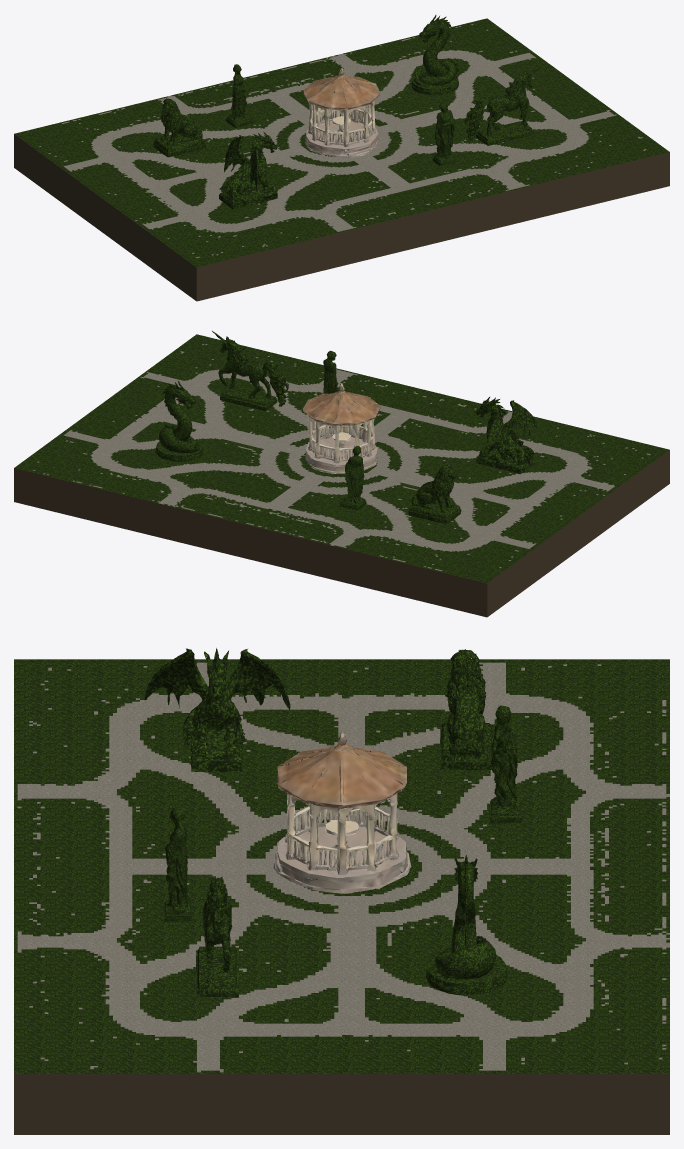
File: garden-shared-textures-v4.glb
3 views of the same model, one above another, from view 1: azimuth 30°, elevation 25°; view 2: azimuth 150°, elevation 25°; view 3: azimuth 270°, elevation 25° (orthographic). The views are drawn at different scales.
Visible parts, largest first — view 1: geometry_0, Compact soil foundation, gazebo - original generated mesh, dragon - original generated mesh, unicorn - original generated mesh, serpent - original generated mesh, dog - original generated mesh, woman-rose - original generated mesh, woman-violet - original generated mesh; view 2: geometry_0, Compact soil foundation, gazebo - original generated mesh, dragon - original generated mesh, unicorn - original generated mesh, serpent - original generated mesh, dog - original generated mesh, woman-violet - original generated mesh, woman-rose - original generated mesh; view 3: geometry_0, Compact soil foundation, gazebo - original generated mesh, dragon - original generated mesh, serpent - original generated mesh, dog - original generated mesh, unicorn - original generated mesh, woman-violet - original generated mesh, woman-rose - original generated mesh.
Part boxes in pixels (x1,y1,x2,y2): geometry_0: (14,18,669,267); Compact soil foundation: (14,134,669,301); gazebo - original generated mesh: (303,68,380,157); dragon - original generated mesh: (219,131,277,209); unicorn - original generated mesh: (464,65,541,145); serpent - original generated mesh: (411,15,459,95); dog - original generated mesh: (153,98,205,157); woman-rose - original generated mesh: (432,102,455,166); woman-violet - original generated mesh: (226,64,252,127); geometry_0: (14,334,669,583); Compact soil foundation: (14,450,669,617); gazebo - original generated mesh: (303,384,380,474); dragon - original generated mesh: (475,397,536,474); unicorn - original generated mesh: (212,331,288,410); serpent - original generated mesh: (155,381,202,461); dog - original generated mesh: (408,464,461,524); woman-violet - original generated mesh: (339,446,366,510); woman-rose - original generated mesh: (323,350,338,393); geometry_0: (14,659,669,1073); Compact soil foundation: (14,1074,669,1134); gazebo - original generated mesh: (273,732,411,893); dragon - original generated mesh: (144,648,290,772); serpent - original generated mesh: (426,855,507,995); dog - original generated mesh: (440,649,493,770); unicorn - original generated mesh: (196,876,238,997); woman-violet - original generated mesh: (489,705,522,823); woman-rose - original generated mesh: (164,807,191,921).
Size of the model in its own units: 1.99 by 0.4392 by 1.33.
4 materials, 3 textured.
